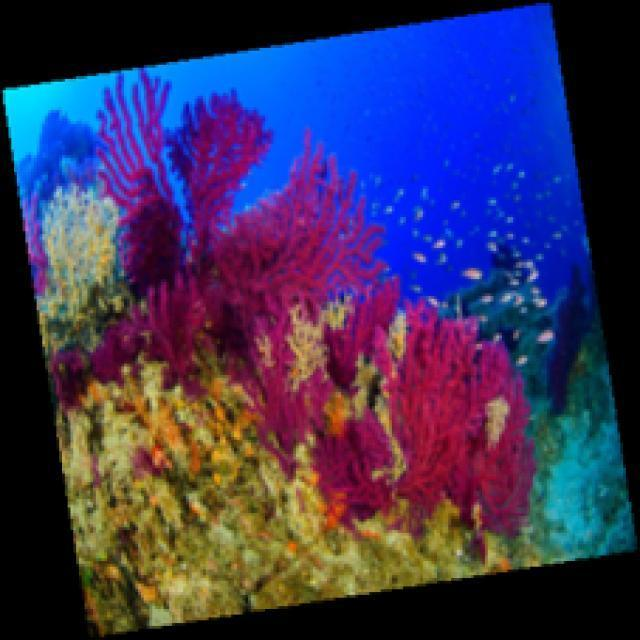Healthy: (50, 67, 543, 565), (35, 184, 543, 640)
